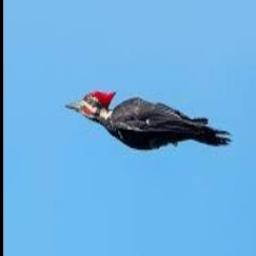Woodpecker: (66, 89, 233, 150)
